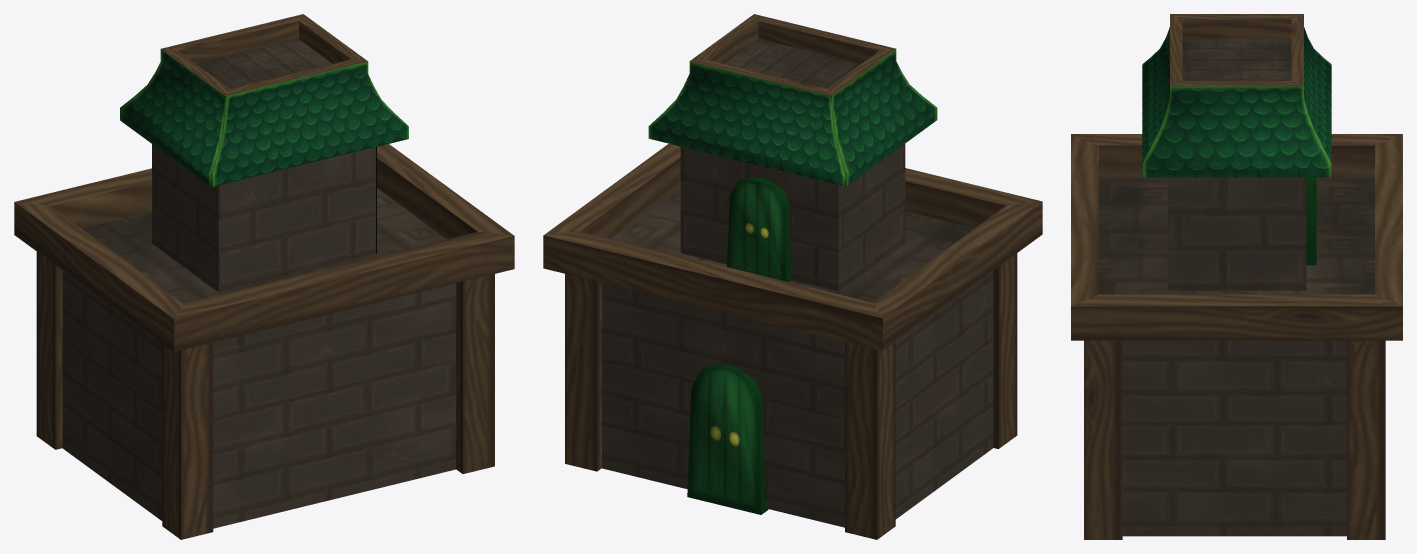
Rendered from stuntower_basis.fbx.
3 views of the same model, side by side, from view 1: azimuth 30°, elevation 25°; view 2: azimuth 150°, elevation 25°; view 3: azimuth 270°, elevation 25° (orthographic). The views are drawn at different scales.
Parts seen in each view (by area): view 1: basis; view 2: basis; view 3: basis.
Part boxes in pixels (<box>): basis: <box>14,14,514,539</box>; basis: <box>543,14,1042,539</box>; basis: <box>1071,14,1402,539</box>.
Size of the model in its own units: 430 by 483 by 350.
